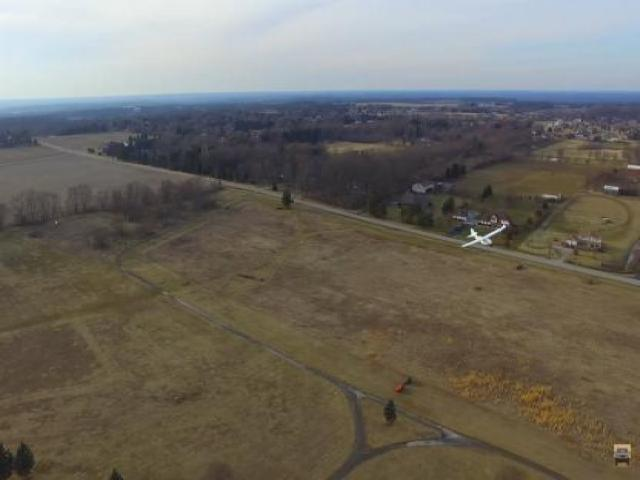uav: (455, 216, 511, 256)
